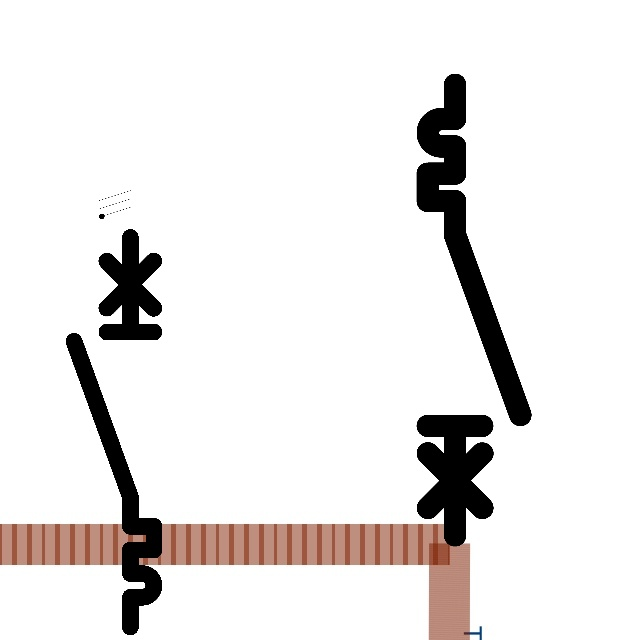interruptor_termomagnetico: (416, 73, 532, 546), (64, 227, 164, 636)
